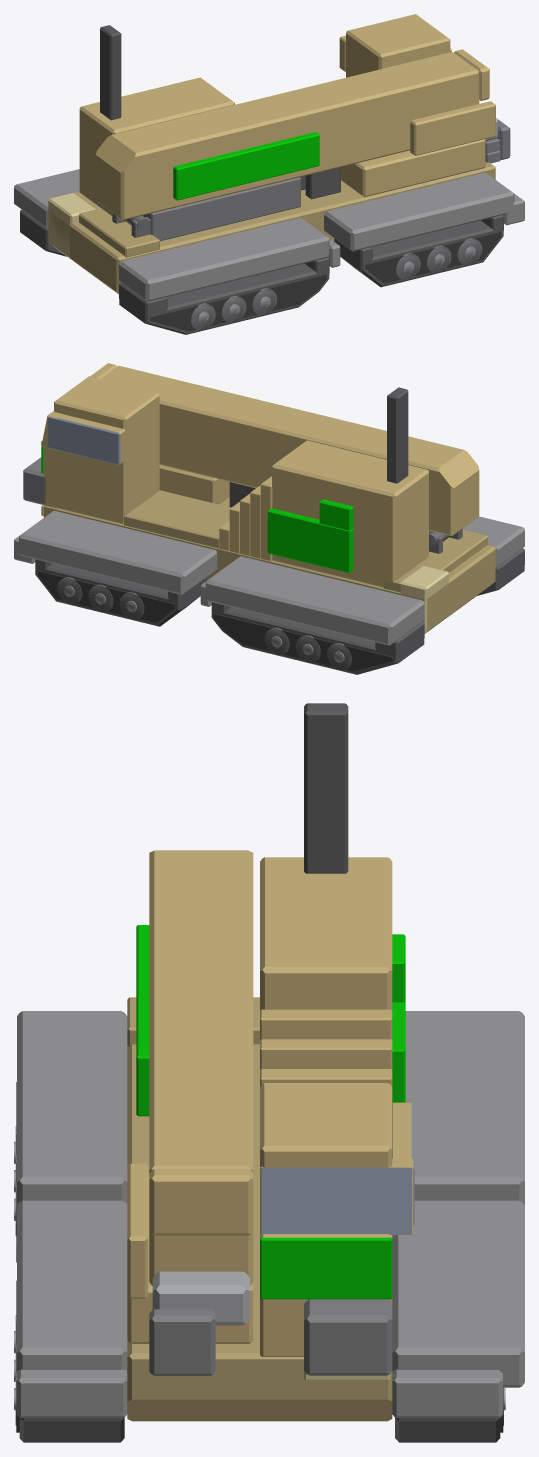
The model's file is mobile-sensor-array.glb.
The picture shows the model from 3 angles, top to bottom: view 1: azimuth 30°, elevation 25°; view 2: azimuth 150°, elevation 25°; view 3: azimuth 270°, elevation 25°; orthographic projection. The views are drawn at different scales.
Parts seen in each view (by area): view 1: pole, track_cover, track_cover_2, keel, block, panel_right, cradle, mount, cab, belt, mount_side, belt_2 (+19 smaller); view 2: pole, block, cab, track_cover_3, track_cover_4, keel, panel_left, deck, side_windows, belt_3, belt_side_3, belt_4 (+22 smaller); view 3: pole, track_cover_4, track_cover_3, track_cover, block, keel, track_cover_2, cab, windscreen, panel_front, mast, pole_tip (+17 smaller).
Part boxes in pixels (<box>): pole: <box>96,52,479,220</box>; track_cover: <box>119,217,329,301</box>; track_cover_2: <box>324,172,514,251</box>; keel: <box>48,162,495,294</box>; block: <box>79,77,234,215</box>; panel_right: <box>173,132,319,200</box>; cradle: <box>143,177,300,241</box>; mount: <box>341,139,485,197</box>; cab: <box>346,14,450,77</box>; belt: <box>119,263,329,334</box>; mount_side: <box>410,101,495,155</box>; belt_2: <box>335,220,503,287</box>; pole: <box>101,365,479,535</box>; block: <box>272,440,428,587</box>; cab: <box>54,376,159,524</box>; track_cover_3: <box>205,556,424,645</box>; track_cover_4: <box>19,510,217,594</box>; keel: <box>43,497,495,632</box>; panel_left: <box>267,508,353,573</box>; deck: <box>124,490,230,548</box>; side_windows: <box>48,414,125,464</box>; belt_3: <box>211,607,424,674</box>; belt_side_3: <box>214,613,392,671</box>; belt_4: <box>35,563,200,626</box>; pole: <box>149,850,253,1285</box>; track_cover_4: <box>392,1200,524,1387</box>; track_cover_3: <box>405,1011,524,1205</box>; track_cover: <box>17,1011,127,1204</box>; block: <box>260,857,392,1010</box>; keel: <box>127,1044,392,1421</box>; track_cover_2: <box>17,1200,127,1370</box>; cab: <box>260,1083,392,1167</box>; windscreen: <box>260,1158,413,1234</box>; panel_front: <box>260,1237,392,1299</box>; mast: <box>304,703,348,873</box>; pole_tip: <box>149,1169,253,1235</box>.
Bounding box in the file's own units: 1.24 × 0.7257 × 0.7226.
